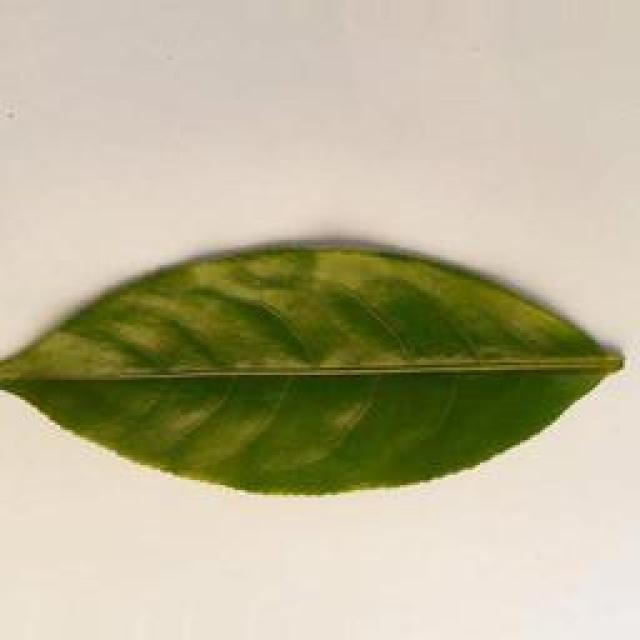Healthy: (0, 218, 634, 496)
